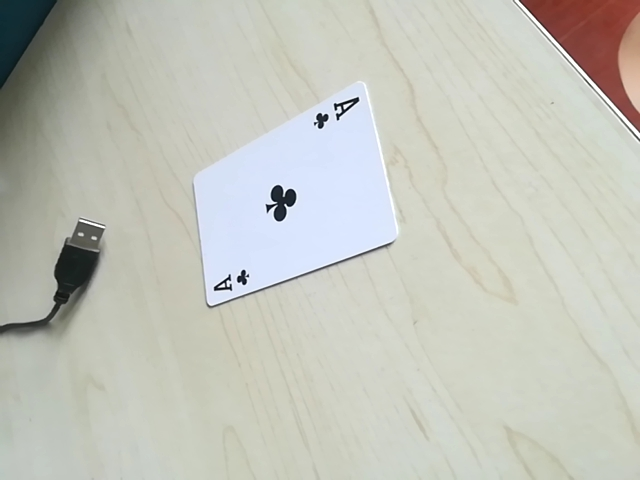mh a: (309, 92, 368, 137), (205, 263, 260, 304)
